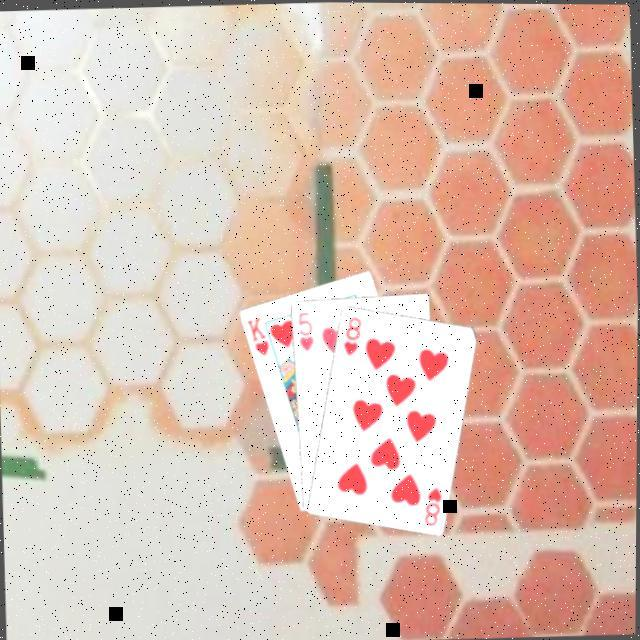5H: (296, 309, 318, 356)
8H: (341, 314, 367, 360), (422, 484, 448, 529)
KH: (244, 314, 274, 359)
